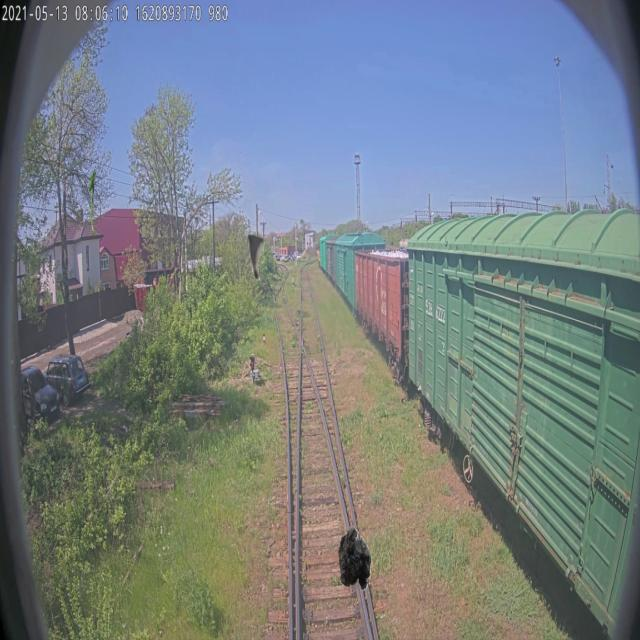floating object: (246, 218, 265, 282), (88, 172, 96, 236)
plastic bag: (338, 527, 372, 591)
